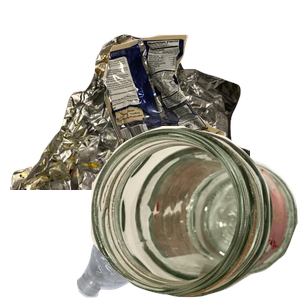glass: (90, 126, 300, 300)
metal: (10, 32, 250, 212)
plastic: (74, 156, 280, 300)
trash: (101, 32, 300, 195)
